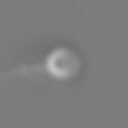normal: (1, 53, 45, 97)
